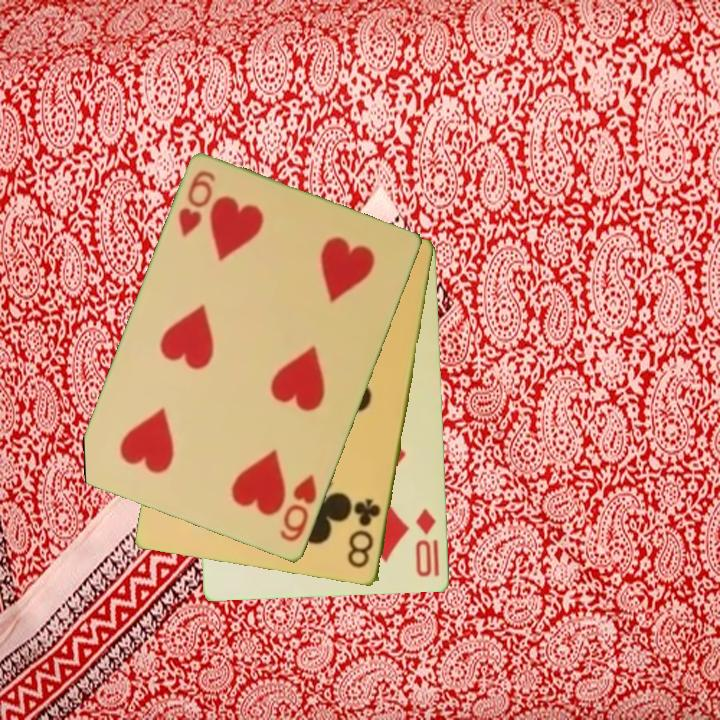10d: (412, 506, 443, 580)
6h: (276, 471, 320, 545), (175, 167, 219, 241)
8c: (344, 495, 384, 571)
